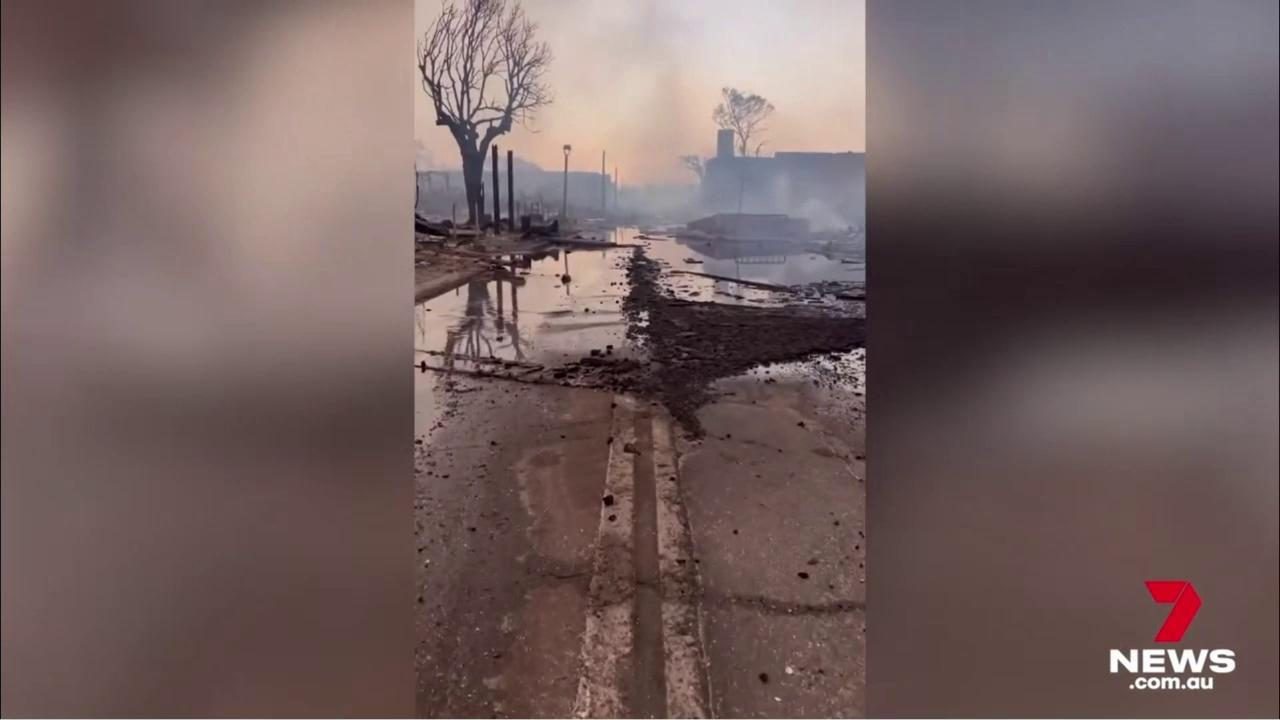smoke: (416, 0, 864, 232)
